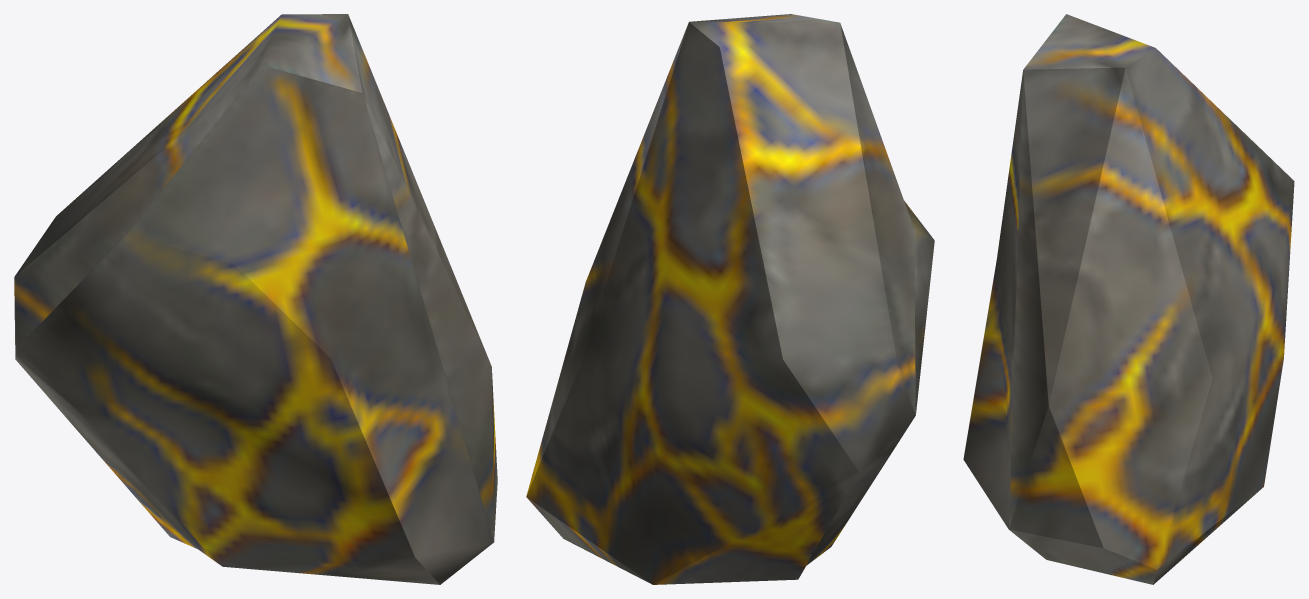
File: prop_list_17.FBX
3 renders of one model, left to right at view 1: azimuth 30°, elevation 25°; view 2: azimuth 150°, elevation 25°; view 3: azimuth 270°, elevation 25°, orthographic. The views are drawn at different scales.
Parts seen in each view (by area): view 1: prop_list_17; view 2: prop_list_17; view 3: prop_list_17.
Boxes of the visible parts, x1=… form: prop_list_17: x1=14, y1=14, x2=497, y2=584; prop_list_17: x1=526, y1=14, x2=934, y2=584; prop_list_17: x1=963, y1=14, x2=1294, y2=584.
Size of the model in its own units: 25.63 by 31.46 by 19.84.
